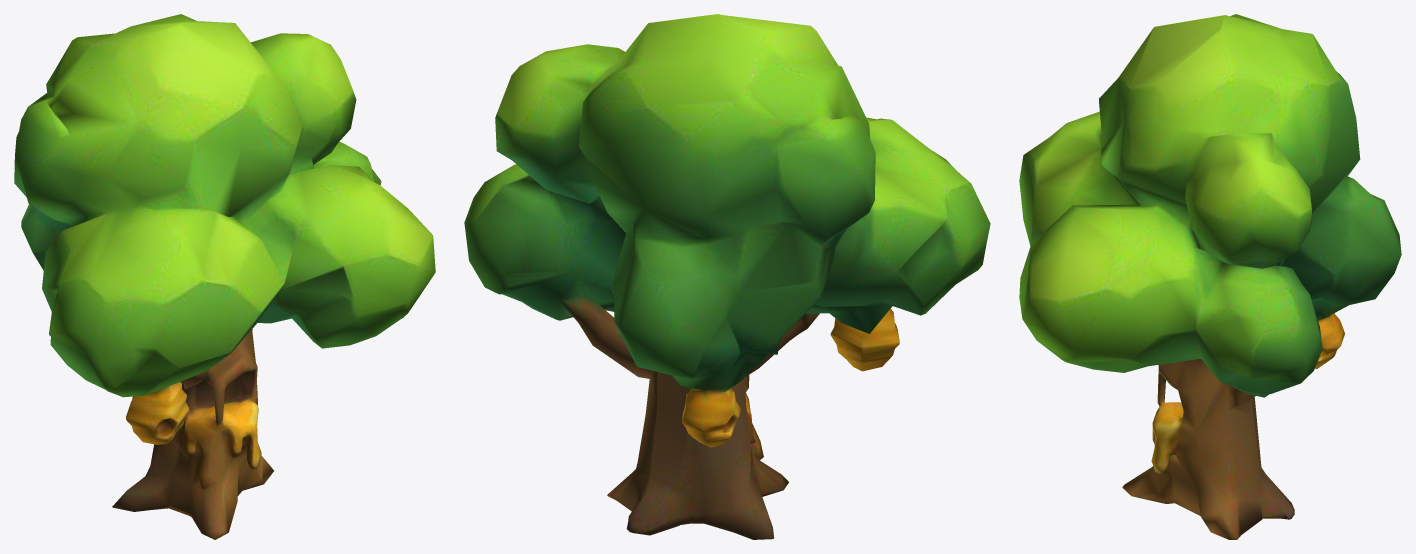
File: honey-tree.glb
3 renders of one model, left to right at view 1: azimuth 30°, elevation 25°; view 2: azimuth 150°, elevation 25°; view 3: azimuth 270°, elevation 25°, orthographic. The views are drawn at different scales.
Parts seen in each view (by area): view 1: honey-tree; view 2: honey-tree; view 3: honey-tree.
Boxes of the visible parts, x1,y1,x2,y2 form: honey-tree: (14,14,435,539); honey-tree: (464,14,990,539); honey-tree: (1019,14,1401,539).
Size of the model in its own units: 0.8728 by 1 by 0.7417.
Materials: 1 (1 with a texture image).
